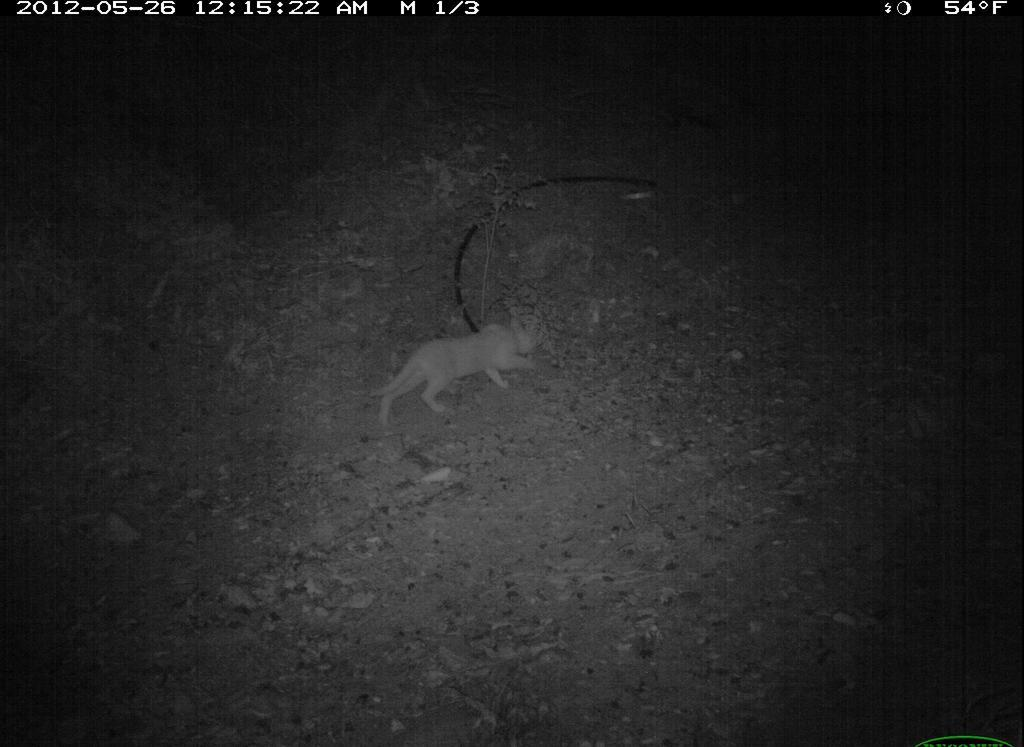cat: (360, 305, 557, 436)
